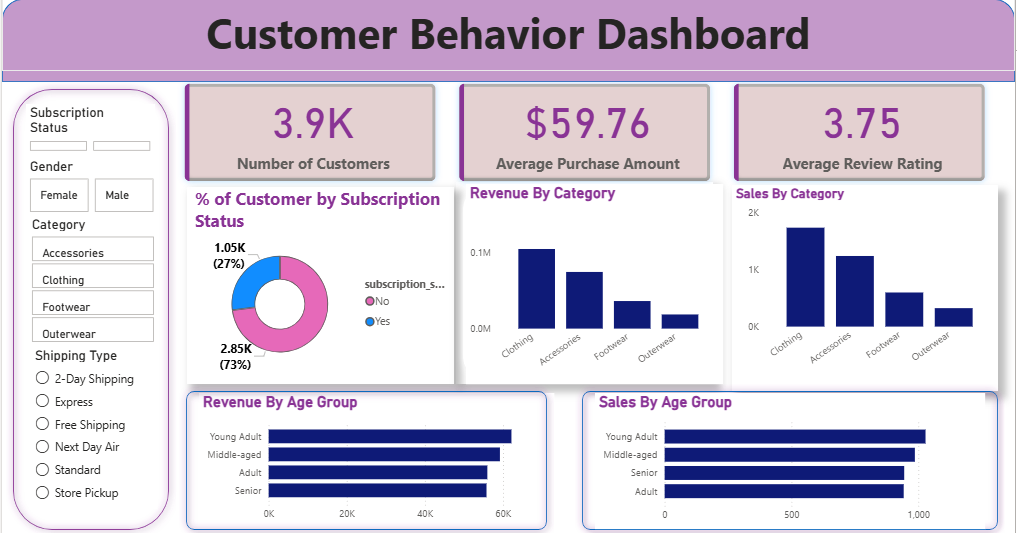

What the dashboard file says about the page in this screenshot:
{"tool":"powerbi","page":{"name":"Page 1","canvas":[1280,720],"ordinal":0},"visuals":[{"type":"cardVisual","fields":{"Data":["customer.Number of Customers","customer.Average Purchase Amount","customer.Average Review Rating"]},"box":[214.8,131.4,1043.7,155.4],"z":0},{"type":"shape","box":[0,40.4,1280,104.9],"z":1000},{"type":"textbox","box":[0,40.4,1280,91],"z":2000},{"type":"shape","box":[233.8,278,337.4,248.9],"z":3000},{"type":"donutChart","title":"% of Customer by Subscription Status","fields":{"Category":["customer.subscription_status"],"Y":["CountNonNull(customer.customer_id)"]},"box":[238.8,278,328.5,240.1],"z":4000},{"type":"shape","box":[573.7,271.7,324.7,255.2],"z":5000},{"type":"shape","box":[922.4,278,336.1,257.8],"z":6000},{"type":"clusteredColumnChart","title":"Revenue By Category","fields":{"Y":["Sum(customer.purchase_amount)"],"Category":["customer.category"]},"box":[586.3,274.2,324.7,252.7],"z":7000},{"type":"clusteredColumnChart","title":"Sales By Category","fields":{"Y":["CountNonNull(customer.customer_id)"],"Category":["customer.category"]},"box":[922.4,275.5,336.1,248.9],"z":8000},{"type":"shape","box":[5.1,145.3,214.8,574.9],"z":9000},{"type":"advancedSlicerVisual","fields":{"Values":["customer.subscription_status"]},"box":[30.3,173.1,163,64.4],"z":10000},{"type":"advancedSlicerVisual","fields":{"Values":["customer.gender"]},"box":[30.3,241.3,166.8,73.3],"z":11000},{"type":"advancedSlicerVisual","fields":{"Values":["customer.category"]},"box":[32.9,314.6,164.3,165.5],"z":12000},{"type":"listSlicer","fields":{"Values":["customer.shipping_type"]},"box":[36.6,480.2,160.5,204.7],"z":13000},{"type":"clusteredBarChart","title":"Revenue By Age Group","fields":{"Y":["Sum(customer.purchase_amount)"],"Category":["customer.age_group"]},"box":[248.9,538.3,448.6,170.6],"z":14000},{"type":"shape","box":[223.7,526.9,473.8,193.3],"z":15000},{"type":"shape","box":[724,526.9,543.3,193.3],"z":16000},{"type":"clusteredBarChart","title":"Sales By Age Group","fields":{"Y":["CountNonNull(customer.customer_id)"],"Category":["customer.age_group"]},"box":[749.3,538.3,492.8,171.8],"z":17000}]}

Visuals, with their boxes on the page's 1280x720 design canvas (x1, y1, x2, y2). These are canvas units, not pixel positions in the 1017x533 screenshot, which may show the page scaled, cropped or inside an application window:
cardVisual - customer.Number of Customers x customer.Average Purchase Amount: {"left": 215, "top": 131, "right": 1258, "bottom": 287}
shape: {"left": 0, "top": 40, "right": 1280, "bottom": 145}
textbox: {"left": 0, "top": 40, "right": 1280, "bottom": 131}
shape: {"left": 234, "top": 278, "right": 571, "bottom": 527}
"% of Customer by Subscription Status" donutChart: {"left": 239, "top": 278, "right": 567, "bottom": 518}
shape: {"left": 574, "top": 272, "right": 898, "bottom": 527}
shape: {"left": 922, "top": 278, "right": 1258, "bottom": 536}
"Revenue By Category" clusteredColumnChart: {"left": 586, "top": 274, "right": 911, "bottom": 527}
"Sales By Category" clusteredColumnChart: {"left": 922, "top": 276, "right": 1258, "bottom": 524}
shape: {"left": 5, "top": 145, "right": 220, "bottom": 720}
advancedSlicerVisual - customer.subscription_status: {"left": 30, "top": 173, "right": 193, "bottom": 238}
advancedSlicerVisual - customer.gender: {"left": 30, "top": 241, "right": 197, "bottom": 315}
advancedSlicerVisual - customer.category: {"left": 33, "top": 315, "right": 197, "bottom": 480}
listSlicer - customer.shipping_type: {"left": 37, "top": 480, "right": 197, "bottom": 685}
"Revenue By Age Group" clusteredBarChart: {"left": 249, "top": 538, "right": 698, "bottom": 709}
shape: {"left": 224, "top": 527, "right": 698, "bottom": 720}
shape: {"left": 724, "top": 527, "right": 1267, "bottom": 720}
"Sales By Age Group" clusteredBarChart: {"left": 749, "top": 538, "right": 1242, "bottom": 710}
